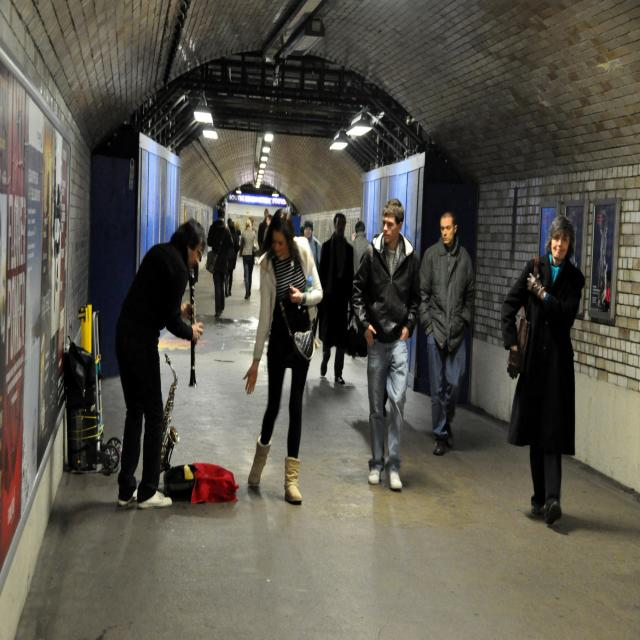clarinet: (188, 266, 198, 389)
